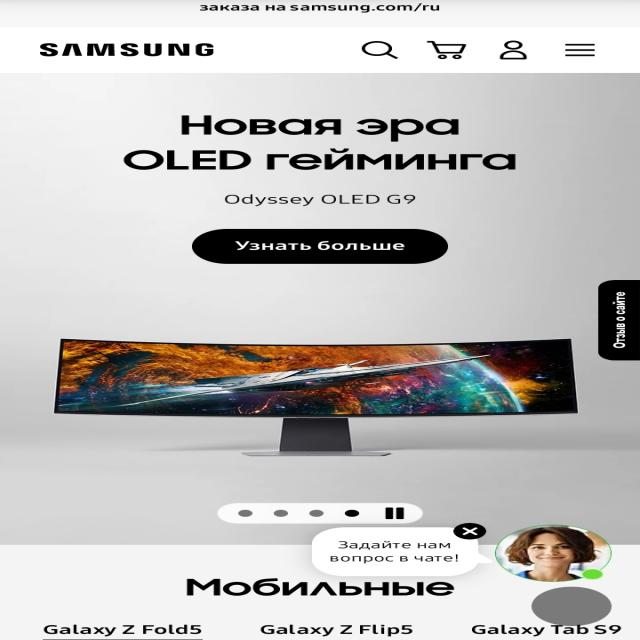button: (452, 523, 486, 540)
site: (311, 524, 484, 576)
